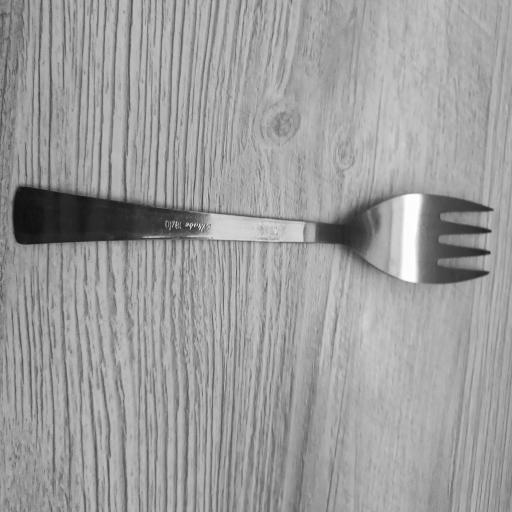fork: (18, 186, 497, 286)
